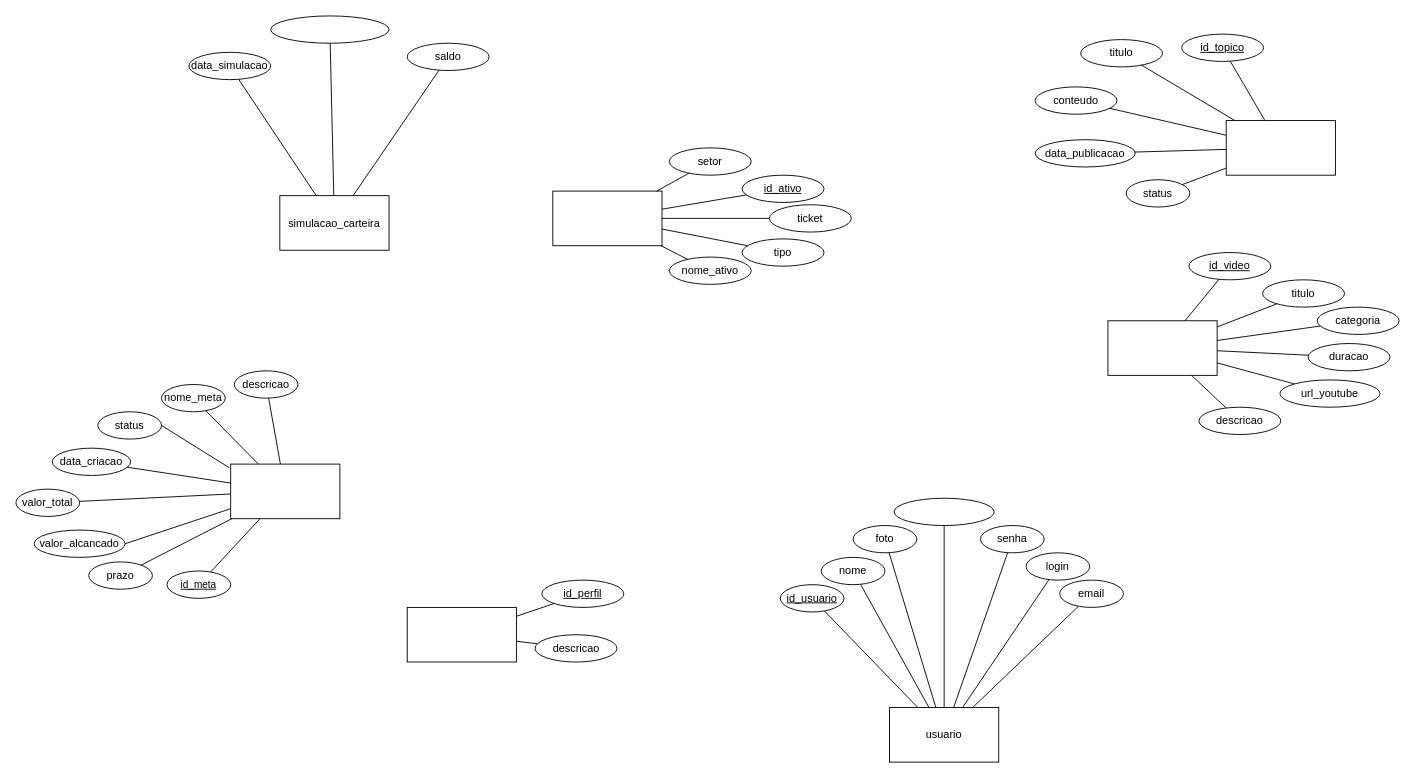
Some shapes in this 1415 by 778 pixel diagram are drawn without their labels. Here are the shapes that lost their labels. From the top down, the box of each, then its label:
(270, 15, 389, 43): id_simulacao
(1225, 120, 1335, 175): comentario_forum
(552, 190, 662, 246): ativo_financeiro
(1107, 320, 1217, 375): video_educacional
(230, 463, 340, 519): metas
(893, 497, 994, 526): data_cadastro
(406, 607, 516, 662): perfil_investidor
